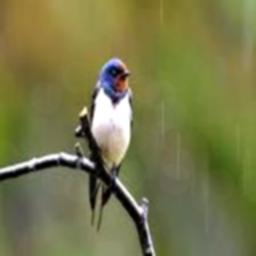Swallow: (88, 58, 134, 232)
